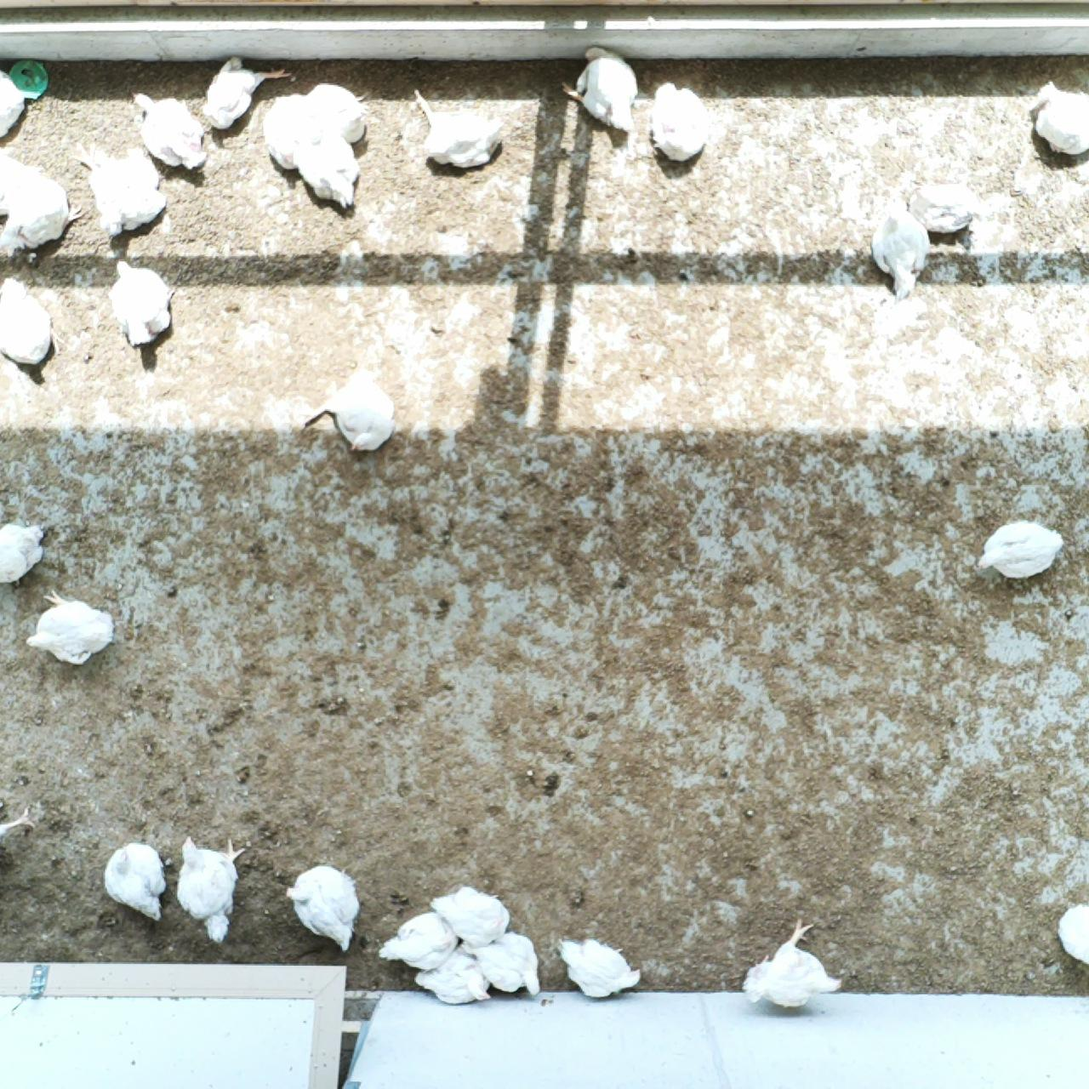chicken: (741, 914, 843, 1010), (73, 142, 171, 239), (0, 149, 83, 258), (407, 86, 506, 174), (302, 365, 399, 454), (557, 38, 644, 137), (173, 833, 248, 946), (282, 861, 364, 955), (24, 586, 116, 667), (865, 196, 934, 303), (198, 53, 289, 134), (130, 89, 210, 174), (104, 258, 177, 349), (290, 122, 363, 212), (973, 517, 1064, 586), (289, 74, 372, 148), (460, 928, 545, 1000), (428, 880, 513, 949), (649, 74, 713, 165), (0, 273, 58, 371), (102, 838, 168, 924), (559, 936, 643, 1003), (377, 906, 464, 970), (1023, 76, 1089, 158), (411, 944, 493, 1008), (905, 178, 985, 236), (0, 520, 47, 586), (1053, 899, 1089, 966), (0, 67, 27, 145)
